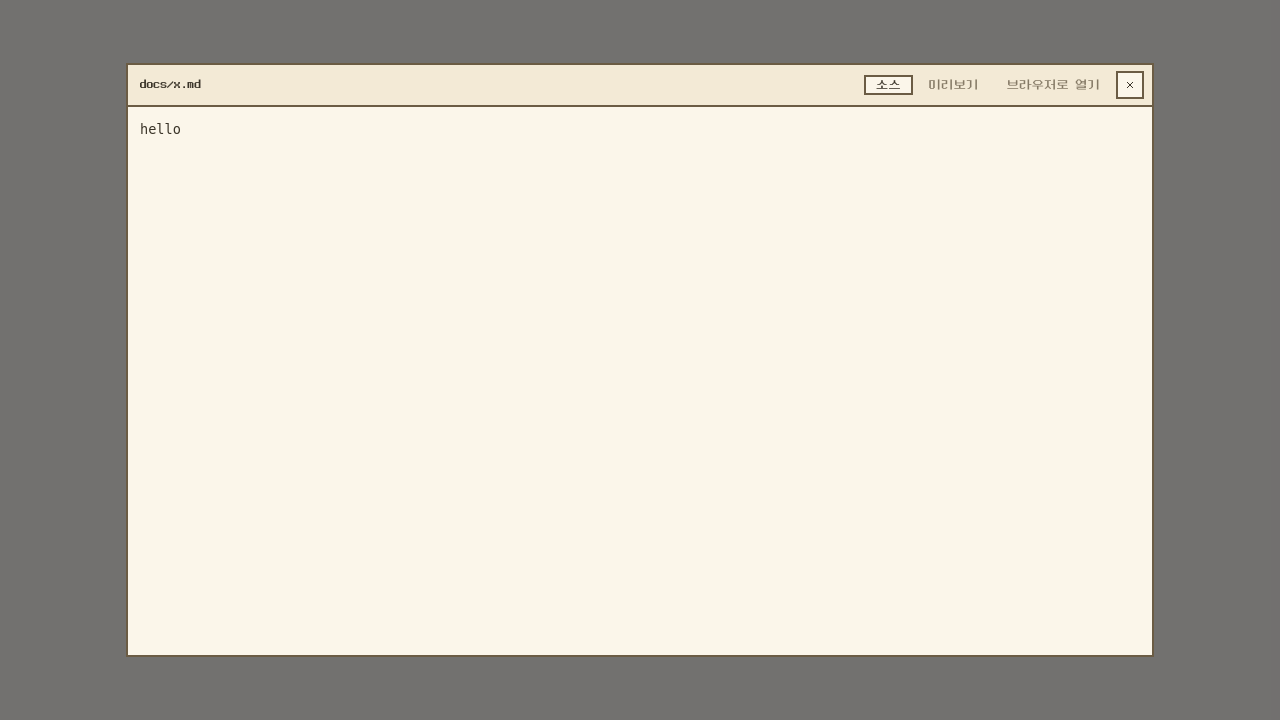
it: MarkdownEditorOverlay › 더티 표시(●)가 변경 시 나타난다
Replace the text in the text box with "x" at (640, 381), box [128,107,1152,655]
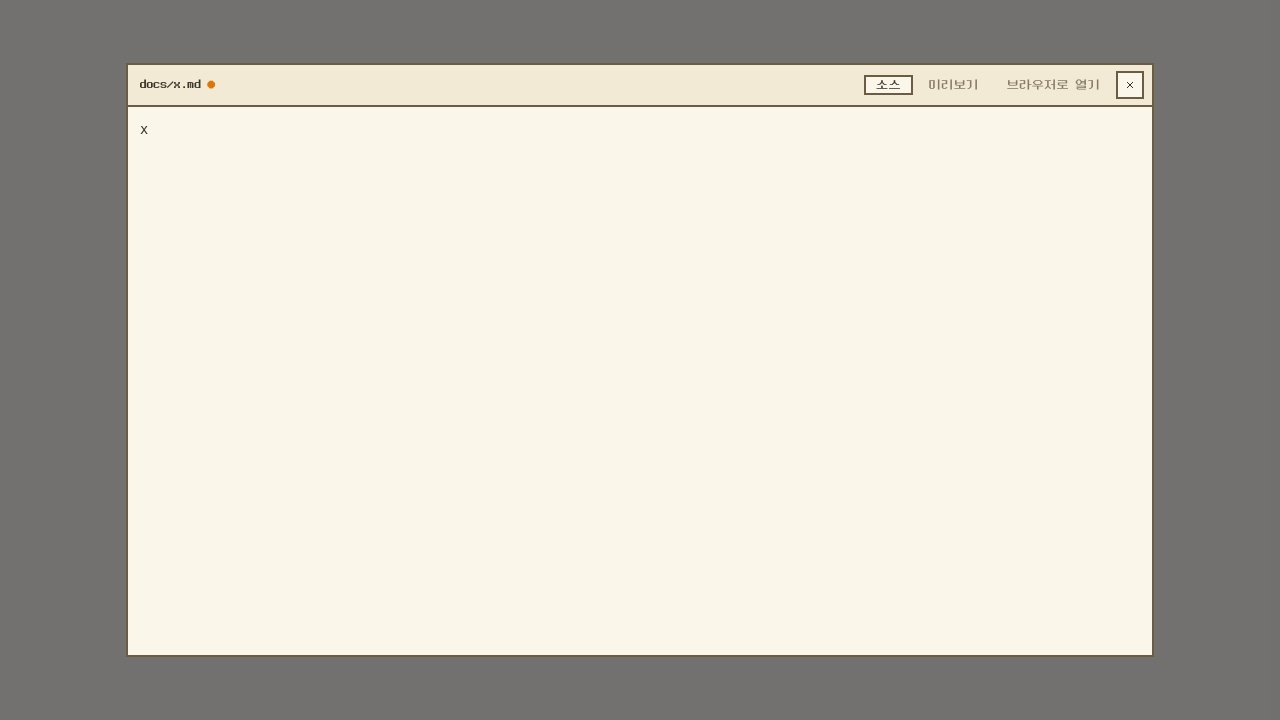
Result: the text named "저장되지 않은 변경" is shown at [205,79,216,90]
